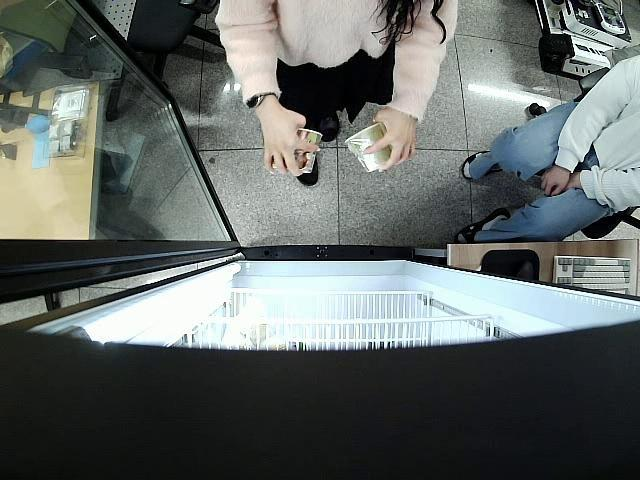03_chapagetti_L: (344, 122, 398, 174), (272, 126, 322, 175)
